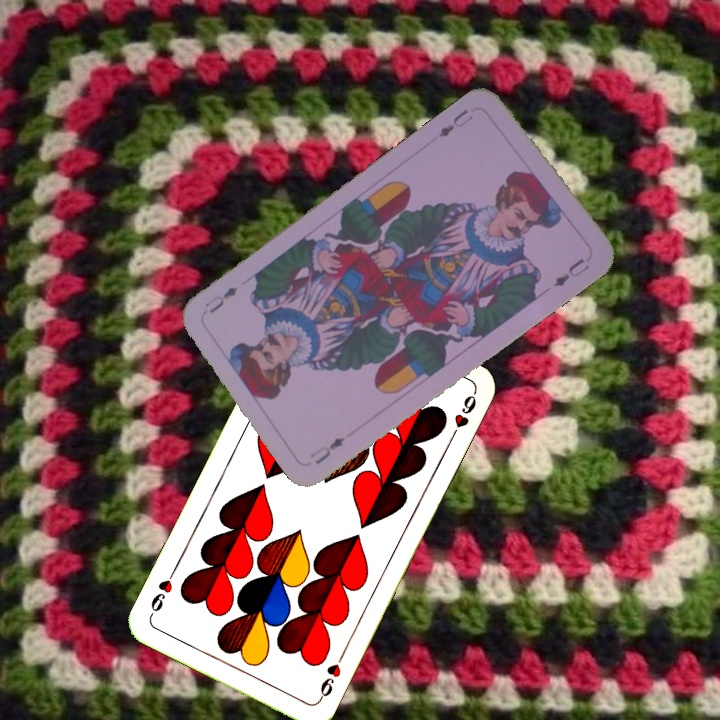EU: (434, 105, 476, 141), (306, 433, 347, 467)
H9: (314, 649, 347, 704)
